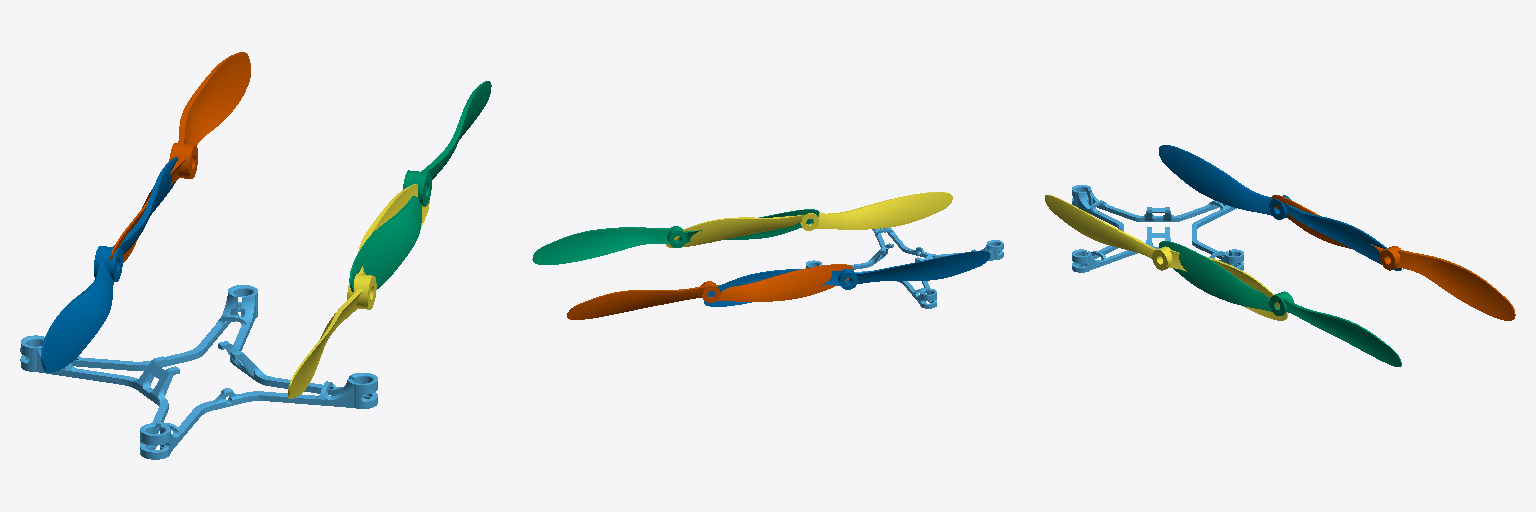
URDF robot description (edrone_model):
<?xml version="1.0" ?>

<robot name="edrone_model" xmlns:xacro="http://ros.org/wiki/xacro">
  <link name="base_link"/>
  <joint name="base_joint" type="fixed">
    <origin rpy="0 0 0" xyz="0 0 0"/>
    <parent link="base_link"/>
    <child link="base_link_inertia"/>
  </joint>
  <link name="base_link_inertia">
    <inertial>
      <mass value="0.0085"/>
      <!-- <mass value="0.1"/> -->
      <!-- [kg] -->
      <origin xyz="0 0 0"/>
      <!--| 7860832.000000 354.224915 9223.249023 |
          | 354.224915 15785238.000000 514.304504 |
          | 9223.249023 514.304504 8033247.000000 | -->  
      <!-- <inertia ixx="1212.180604086" ixy="0.054623298" ixz="1.422272295" iyy="2434.164644974" iyz="0.079308392" izz="1238.767881216"/> -->
      <inertia ixx="0.00001" ixy="0.0" ixz="0.0"
        iyy="0.00001" iyz="0.0" 
        izz="0.00001"/>
    </inertial>
    <visual>
      <origin rpy="1.57079632679 0 0" xyz="0 0 0"/>
      <geometry>
        <mesh filename="package://edrone_gazebo/urdf/meshes/frame.dae" scale="0.001 0.001 0.001"/>
        <!-- <box size="${body_width} ${body_width} ${body_height}"/> -->
        <!-- [m] [m] [m] -->
      </geometry>
    </visual>
    <collision>
      <origin rpy="0 0 0" xyz="0 0 0"/>
      <geometry>
        <box size="0.14 0.14 0.015"/>
        <!-- [m] [m] [m] -->
      </geometry>
    </collision>
  </link>
  <!-- attach multirotor_base_plugin to the base_link -->
  <gazebo>
    <plugin filename="librotors_gazebo_multirotor_base_plugin.so" name="rosbag">
      <robotNamespace>edrone_gazebo</robotNamespace>
      <linkName>base_link</linkName>
      <rotorVelocitySlowdownSim>10</rotorVelocitySlowdownSim>
    </plugin>
  </gazebo>
  <gazebo reference="base_link">
    <material>Gazebo/DarkGrey</material>
  </gazebo>
  <joint name="rotor_0_joint" type="continuous">
    <origin rpy="0 0 0" xyz="0.0675 0 0.01"/>
    <axis xyz="0 0 1"/>
    <!-- TODO(ff): not currently set because it's not yet supported -->
    <!-- <limit effort="2000" velocity="${max_rot_velocity}" /> -->
    <parent link="base_link"/>
    <child link="rotor_0"/>
  </joint>
  <!-- TODO(ff): not currently set because it's not yet supported -->
  <!-- <gazebo reference="rotor_${motor_number}_joint"> <axis> <xyz>0 0 1</xyz>
      <limit> <velocity> ${max_rot_velocity} </velocity> </limit> </axis> </gazebo> -->
  <link name="rotor_0">
    <inertial>
      <mass value="0.0037"/>
      <!-- [kg] -->
      <inertia ixx="7.215e-07" ixy="0.0" ixz="0.0" iyy="1.78833333333e-07" iyz="0.0" izz="8.44833333333e-07"/>
    </inertial>
    <visual>
      <geometry>
        <!-- <cylinder length="0.005" radius="${radius_rotor}"/> -->
        <!-- [m] -->
        <!-- <mesh filename="package://rotors_description/meshes/propeller_${direction}.dae" -->
        <mesh filename="package://edrone_gazebo/urdf/meshes/prop_CCW_45.dae" scale="0.001 0.001 0.001"/>
        <!-- <box size="${2*radius_rotor} 0.01 0.005"/> -->
      </geometry>
    </visual>
    <collision>
      <geometry>
        <cylinder length="0.005" radius="0.0035"/>
        <!-- [m] -->
      </geometry>
    </collision>
  </link>
  <gazebo>
    <plugin filename="librotors_gazebo_motor_model.so" name="front_motor_model">
      <robotNamespace>edrone_gazebo</robotNamespace>
      <jointName>rotor_0_joint</jointName>
      <linkName>rotor_0</linkName>
      <turningDirection>CCW_45</turningDirection>
      <timeConstantUp>0.15</timeConstantUp>
      <timeConstantDown>0.15</timeConstantDown>
      <maxRotVelocity>770</maxRotVelocity>
      <motorConstant>2.39e-05</motorConstant>
      <momentConstant>0.016</momentConstant>
      <commandSubTopic>gazebo/command/motor_speed</commandSubTopic>
      <motorNumber>0</motorNumber>
      <rotorDragCoefficient>1.3858e-06</rotorDragCoefficient>
      <rollingMomentCoefficient>1e-06</rollingMomentCoefficient>
      <motorSpeedPubTopic>motor_speed/0</motorSpeedPubTopic>
      <rotorVelocitySlowdownSim>10</rotorVelocitySlowdownSim>
    </plugin>
  </gazebo>
  <gazebo reference="rotor_0">
    <material>Gazebo/Blue</material>
  </gazebo>
  <joint name="rotor_1_joint" type="continuous">
    <origin rpy="0 0 0" xyz="0 -0.0675 0.01"/>
    <axis xyz="0 0 1"/>
    <!-- TODO(ff): not currently set because it's not yet supported -->
    <!-- <limit effort="2000" velocity="${max_rot_velocity}" /> -->
    <parent link="base_link"/>
    <child link="rotor_1"/>
  </joint>
  <!-- TODO(ff): not currently set because it's not yet supported -->
  <!-- <gazebo reference="rotor_${motor_number}_joint"> <axis> <xyz>0 0 1</xyz>
      <limit> <velocity> ${max_rot_velocity} </velocity> </limit> </axis> </gazebo> -->
  <link name="rotor_1">
    <inertial>
      <mass value="0.0037"/>
      <!-- [kg] -->
      <inertia ixx="7.215e-07" ixy="0.0" ixz="0.0" iyy="1.78833333333e-07" iyz="0.0" izz="8.44833333333e-07"/>
    </inertial>
    <visual>
      <geometry>
        <!-- <cylinder length="0.005" radius="${radius_rotor}"/> -->
        <!-- [m] -->
        <!-- <mesh filename="package://rotors_description/meshes/propeller_${direction}.dae" -->
        <mesh filename="package://edrone_gazebo/urdf/meshes/prop_CW_45.dae" scale="0.001 0.001 0.001"/>
        <!-- <box size="${2*radius_rotor} 0.01 0.005"/> -->
      </geometry>
    </visual>
    <collision>
      <geometry>
        <cylinder length="0.005" radius="0.0035"/>
        <!-- [m] -->
      </geometry>
    </collision>
  </link>
  <gazebo>
    <plugin filename="librotors_gazebo_motor_model.so" name="right_motor_model">
      <robotNamespace>edrone_gazebo</robotNamespace>
      <jointName>rotor_1_joint</jointName>
      <linkName>rotor_1</linkName>
      <turningDirection>CW_45</turningDirection>
      <timeConstantUp>0.15</timeConstantUp>
      <timeConstantDown>0.15</timeConstantDown>
      <maxRotVelocity>770</maxRotVelocity>
      <motorConstant>2.39e-05</motorConstant>
      <momentConstant>0.016</momentConstant>
      <commandSubTopic>gazebo/command/motor_speed</commandSubTopic>
      <motorNumber>1</motorNumber>
      <rotorDragCoefficient>1.3858e-06</rotorDragCoefficient>
      <rollingMomentCoefficient>1e-06</rollingMomentCoefficient>
      <motorSpeedPubTopic>motor_speed/1</motorSpeedPubTopic>
      <rotorVelocitySlowdownSim>10</rotorVelocitySlowdownSim>
    </plugin>
  </gazebo>
  <gazebo reference="rotor_1">
    <material>Gazebo/Grey</material>
  </gazebo>
  <joint name="rotor_2_joint" type="continuous">
    <origin rpy="0 0 0" xyz="-0.0675 0 0.01"/>
    <axis xyz="0 0 1"/>
    <!-- TODO(ff): not currently set because it's not yet supported -->
    <!-- <limit effort="2000" velocity="${max_rot_velocity}" /> -->
    <parent link="base_link"/>
    <child link="rotor_2"/>
  </joint>
  <!-- TODO(ff): not currently set because it's not yet supported -->
  <!-- <gazebo reference="rotor_${motor_number}_joint"> <axis> <xyz>0 0 1</xyz>
      <limit> <velocity> ${max_rot_velocity} </velocity> </limit> </axis> </gazebo> -->
  <link name="rotor_2">
    <inertial>
      <mass value="0.0037"/>
      <!-- [kg] -->
      <inertia ixx="7.215e-07" ixy="0.0" ixz="0.0" iyy="1.78833333333e-07" iyz="0.0" izz="8.44833333333e-07"/>
    </inertial>
    <visual>
      <geometry>
        <!-- <cylinder length="0.005" radius="${radius_rotor}"/> -->
        <!-- [m] -->
        <!-- <mesh filename="package://rotors_description/meshes/propeller_${direction}.dae" -->
        <mesh filename="package://edrone_gazebo/urdf/meshes/prop_CCW_45.dae" scale="0.001 0.001 0.001"/>
        <!-- <box size="${2*radius_rotor} 0.01 0.005"/> -->
      </geometry>
    </visual>
    <collision>
      <geometry>
        <cylinder length="0.005" radius="0.0035"/>
        <!-- [m] -->
      </geometry>
    </collision>
  </link>
  <gazebo>
    <plugin filename="librotors_gazebo_motor_model.so" name="back_motor_model">
      <robotNamespace>edrone_gazebo</robotNamespace>
      <jointName>rotor_2_joint</jointName>
      <linkName>rotor_2</linkName>
      <turningDirection>CCW_45</turningDirection>
      <timeConstantUp>0.15</timeConstantUp>
      <timeConstantDown>0.15</timeConstantDown>
      <maxRotVelocity>770</maxRotVelocity>
      <motorConstant>2.39e-05</motorConstant>
      <momentConstant>0.016</momentConstant>
      <commandSubTopic>gazebo/command/motor_speed</commandSubTopic>
      <motorNumber>2</motorNumber>
      <rotorDragCoefficient>1.3858e-06</rotorDragCoefficient>
      <rollingMomentCoefficient>1e-06</rollingMomentCoefficient>
      <motorSpeedPubTopic>motor_speed/2</motorSpeedPubTopic>
      <rotorVelocitySlowdownSim>10</rotorVelocitySlowdownSim>
    </plugin>
  </gazebo>
  <gazebo reference="rotor_2">
    <material>Gazebo/black</material>
  </gazebo>
  <joint name="rotor_3_joint" type="continuous">
    <origin rpy="0 0 0" xyz="0 0.0675 0.01"/>
    <axis xyz="0 0 1"/>
    <!-- TODO(ff): not currently set because it's not yet supported -->
    <!-- <limit effort="2000" velocity="${max_rot_velocity}" /> -->
    <parent link="base_link"/>
    <child link="rotor_3"/>
  </joint>
  <!-- TODO(ff): not currently set because it's not yet supported -->
  <!-- <gazebo reference="rotor_${motor_number}_joint"> <axis> <xyz>0 0 1</xyz>
      <limit> <velocity> ${max_rot_velocity} </velocity> </limit> </axis> </gazebo> -->
  <link name="rotor_3">
    <inertial>
      <mass value="0.0037"/>
      <!-- [kg] -->
      <inertia ixx="7.215e-07" ixy="0.0" ixz="0.0" iyy="1.78833333333e-07" iyz="0.0" izz="8.44833333333e-07"/>
    </inertial>
    <visual>
      <geometry>
        <!-- <cylinder length="0.005" radius="${radius_rotor}"/> -->
        <!-- [m] -->
        <!-- <mesh filename="package://rotors_description/meshes/propeller_${direction}.dae" -->
        <mesh filename="package://edrone_gazebo/urdf/meshes/prop_CW_45.dae" scale="0.001 0.001 0.001"/>
        <!-- <box size="${2*radius_rotor} 0.01 0.005"/> -->
      </geometry>
    </visual>
    <collision>
      <geometry>
        <cylinder length="0.005" radius="0.0035"/>
        <!-- [m] -->
      </geometry>
    </collision>
  </link>
  <gazebo>
    <plugin filename="librotors_gazebo_motor_model.so" name="left_motor_model">
      <robotNamespace>edrone_gazebo</robotNamespace>
      <jointName>rotor_3_joint</jointName>
      <linkName>rotor_3</linkName>
      <turningDirection>CW_45</turningDirection>
      <timeConstantUp>0.15</timeConstantUp>
      <timeConstantDown>0.15</timeConstantDown>
      <maxRotVelocity>770</maxRotVelocity>
      <motorConstant>2.39e-05</motorConstant>
      <momentConstant>0.016</momentConstant>
      <commandSubTopic>gazebo/command/motor_speed</commandSubTopic>
      <motorNumber>3</motorNumber>
      <rotorDragCoefficient>1.3858e-06</rotorDragCoefficient>
      <rollingMomentCoefficient>1e-06</rollingMomentCoefficient>
      <motorSpeedPubTopic>motor_speed/3</motorSpeedPubTopic>
      <rotorVelocitySlowdownSim>10</rotorVelocitySlowdownSim>
    </plugin>
  </gazebo>
  <gazebo reference="rotor_3">
    <material>Gazebo/Grey</material>
  </gazebo>
</robot>

--- Facts derived from the render (not from the file) ---
Views: 3 orthographic renders of the robot side by side, from view 1: azimuth 30°, elevation 25°; view 2: azimuth 150°, elevation 25°; view 3: azimuth 270°, elevation 25°.
Model edrone_model with 6 links and 5 joints (4 continuous, 1 fixed), rooted at base_link, posed every joint at zero.
Links seen in each view (by area): view 1: base_link_inertia, rotor_2, rotor_0, rotor_3, rotor_1; view 2: rotor_3, rotor_1, rotor_0, rotor_2, base_link_inertia; view 3: rotor_0, rotor_2, rotor_3, base_link_inertia, rotor_1.
Boxes of the visible links, x1=… form: base_link_inertia: x1=20, y1=285, x2=377, y2=459; rotor_2: x1=41, y1=157, x2=177, y2=372; rotor_0: x1=349, y1=81, x2=491, y2=291; rotor_3: x1=110, y1=52, x2=250, y2=262; rotor_1: x1=288, y1=184, x2=429, y2=398; rotor_3: x1=567, y1=264, x2=853, y2=319; rotor_1: x1=666, y1=192, x2=952, y2=247; rotor_0: x1=532, y1=209, x2=819, y2=264; rotor_2: x1=704, y1=251, x2=990, y2=306; base_link_inertia: x1=806, y1=227, x2=1003, y2=308; rotor_0: x1=1159, y1=241, x2=1401, y2=366; rotor_2: x1=1159, y1=145, x2=1401, y2=270; rotor_3: x1=1272, y1=195, x2=1515, y2=320; base_link_inertia: x1=1072, y1=185, x2=1243, y2=272; rotor_1: x1=1045, y1=195, x2=1287, y2=320.
Bounding box of the posed robot: 0.2792 × 0.2792 × 0.03 m (x, y, z).
5 mesh visuals loaded from 3 distinct referenced files (3 Collada DAE).
